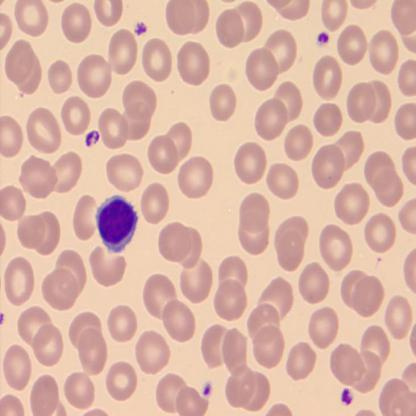Lymphocyte: (94, 192, 139, 254)
